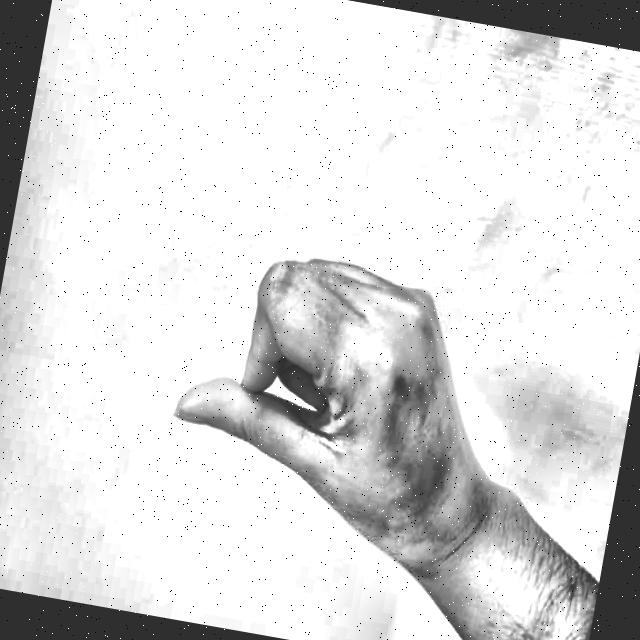Ay: (125, 192, 549, 592)
